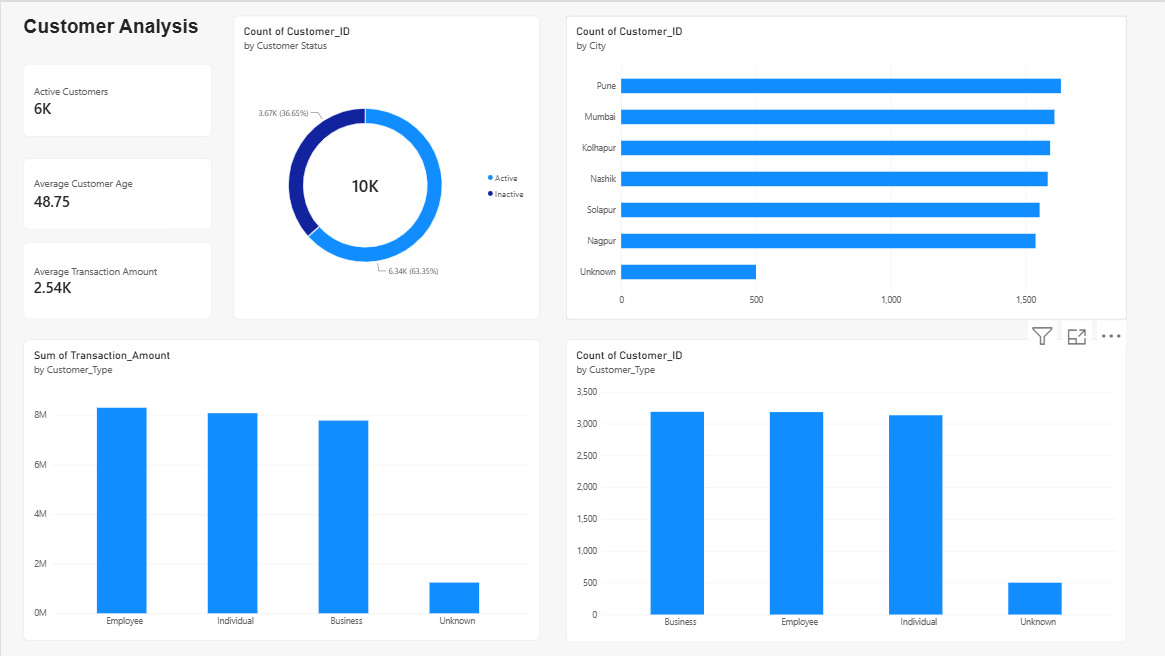

This screenshot's page, from the dashboard's own definition file:
{"tool":"powerbi","page":{"name":"Customer Analysis","canvas":[1920,1080],"ordinal":1},"visuals":[{"type":"cardVisual","fields":{"Data":["bank_cleaned.Active Customers"]},"box":[37,102.9,310.8,119.4],"z":0},{"type":"cardVisual","fields":{"Data":["bank_cleaned.Average Customer Age"]},"box":[37,257.3,310.8,117.3],"z":1000},{"type":"clusteredColumnChart","fields":{"Category":["customer_cleaned.Customer_Type"],"Y":["CountNonNull(customer_cleaned.Customer_ID)"]},"box":[930.4,555.7,922.1,498.1],"z":2000},{"type":"clusteredBarChart","fields":{"Category":["customer_cleaned.City"],"Y":["CountNonNull(customer_cleaned.Customer_ID)"]},"box":[930.4,22.6,924.2,500.2],"z":3000},{"type":"clusteredColumnChart","fields":{"Category":["customer_cleaned.Customer_Type"],"Y":["Sum(transaction_cleaned.Transaction_Amount)"]},"box":[37,555.7,850.1,496.1],"z":4000},{"type":"donutChart","fields":{"Category":["customer_cleaned.Customer Status"],"Y":["CountNonNull(customer_cleaned.Customer_ID)"]},"box":[382.8,22.6,504.3,500.2],"z":5000},{"type":"cardVisual","fields":{"Data":["bank_cleaned.Average Transaction Amount"]},"box":[37,395.2,310.8,127.6],"z":6000},{"type":"textbox","box":[37,22.6,310.8,109.1],"z":7000}]}

Visuals, with their boxes in screenshot pixels (x1, y1, x2, y2), scaled from the page's 1920x1080 canvas onto the 1165x656 screenshot:
cardVisual - bank_cleaned.Active Customers: 22:63:211:135
cardVisual - bank_cleaned.Average Customer Age: 22:156:211:228
clusteredColumnChart - customer_cleaned.Customer_Type x CountNonNull(customer_cleaned.Customer_ID): 565:338:1124:640
clusteredBarChart - customer_cleaned.City x CountNonNull(customer_cleaned.Customer_ID): 565:14:1125:318
clusteredColumnChart - customer_cleaned.Customer_Type x Sum(transaction_cleaned.Transaction_Amount): 22:338:538:639
donutChart - customer_cleaned.Customer Status x CountNonNull(customer_cleaned.Customer_ID): 232:14:538:318
cardVisual - bank_cleaned.Average Transaction Amount: 22:240:211:318
textbox: 22:14:211:80
